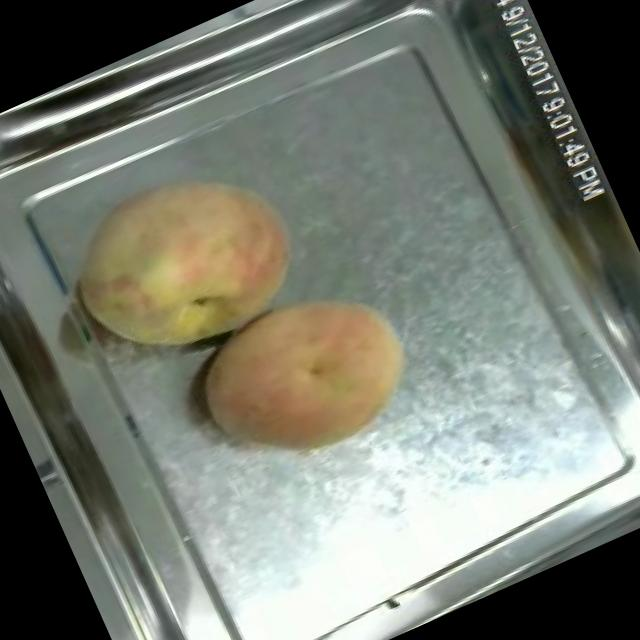Fruit: (44, 130, 326, 388), (173, 254, 443, 497)
